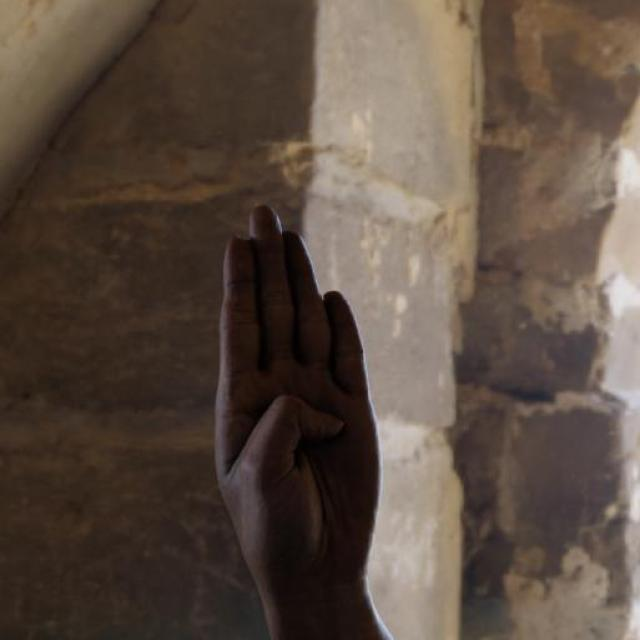B: (206, 196, 384, 579)
